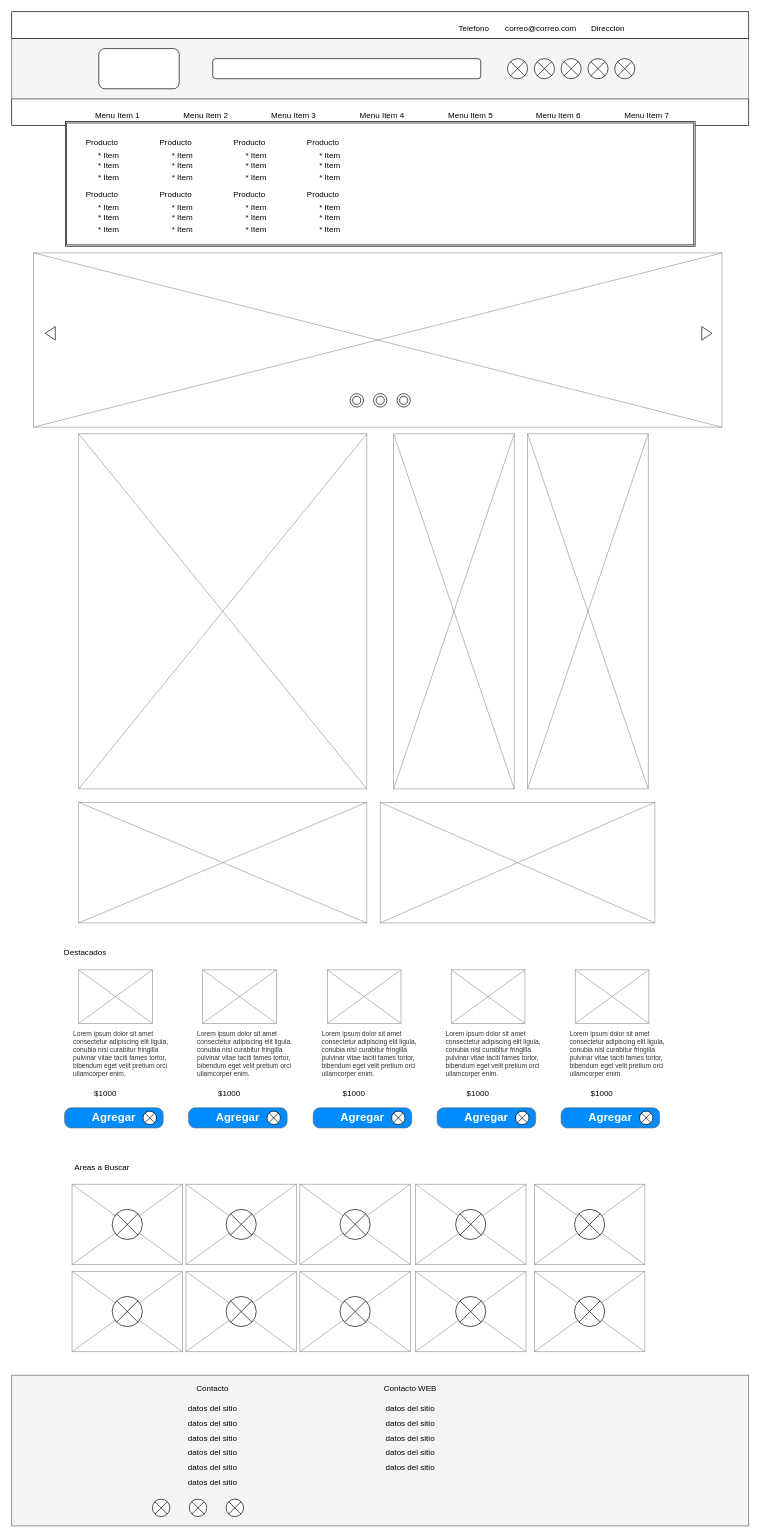
Some shapes in this 760 by 1538 pixel diagram are drawn without their labels. The centre of each missing label's shape, as x and y in pixels:
"Buscador" goes at point (346, 68).
"LOGO" goes at point (138, 68).
